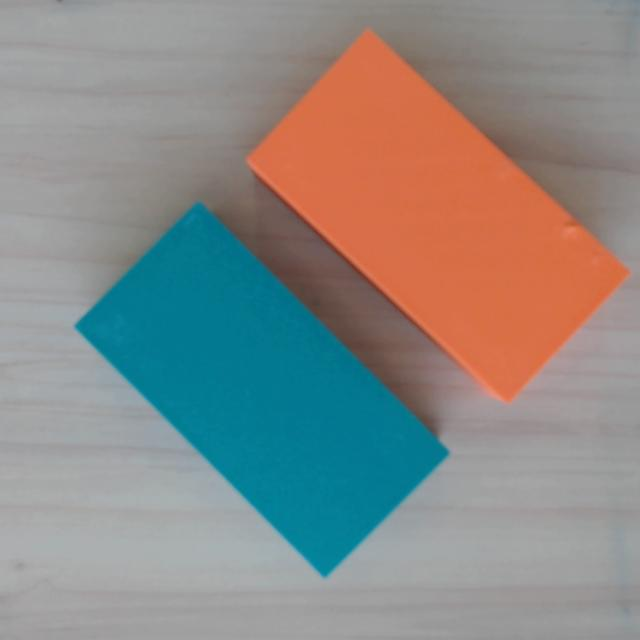Balok-Hijau-1005025: (72, 201, 451, 578)
Balok-Jingga-1005025: (240, 27, 632, 409)
